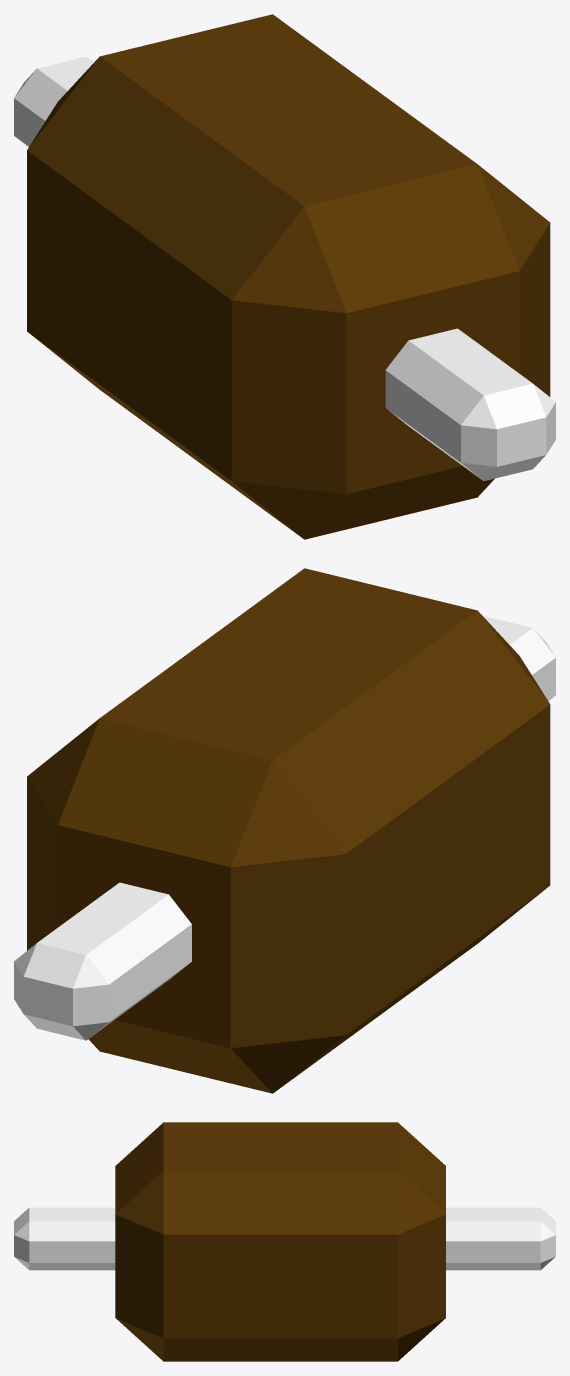
File: Ap_Heal_Model.fbx
3 renders of one model, top to bottom at view 1: azimuth 30°, elevation 25°; view 2: azimuth 150°, elevation 25°; view 3: azimuth 270°, elevation 25°, orthographic. The views are drawn at different scales.
Visible parts, largest first — view 1: Cube; view 2: Cube; view 3: Cube.
Part boxes in pixels (x1=…): Cube: x1=14, y1=14, x2=555, y2=539; Cube: x1=14, y1=568, x2=555, y2=1093; Cube: x1=14, y1=1122, x2=555, y2=1361.
Size of the model in its own units: 2 by 2 by 5.15.
